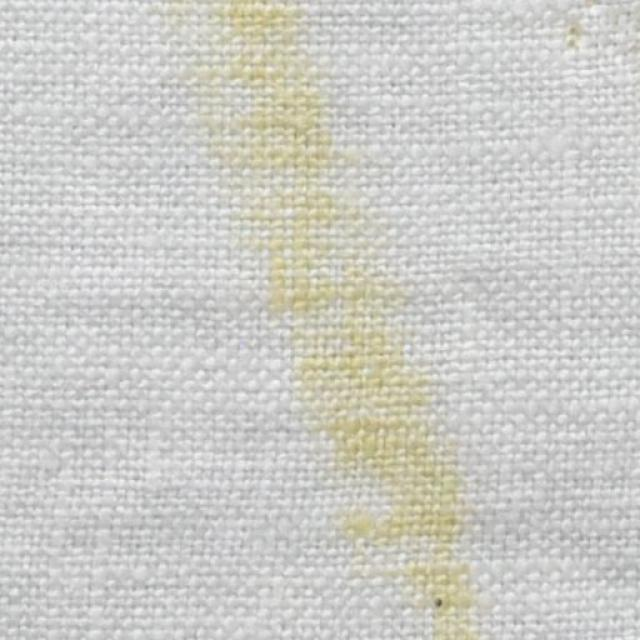Stain: (194, 0, 479, 639)
